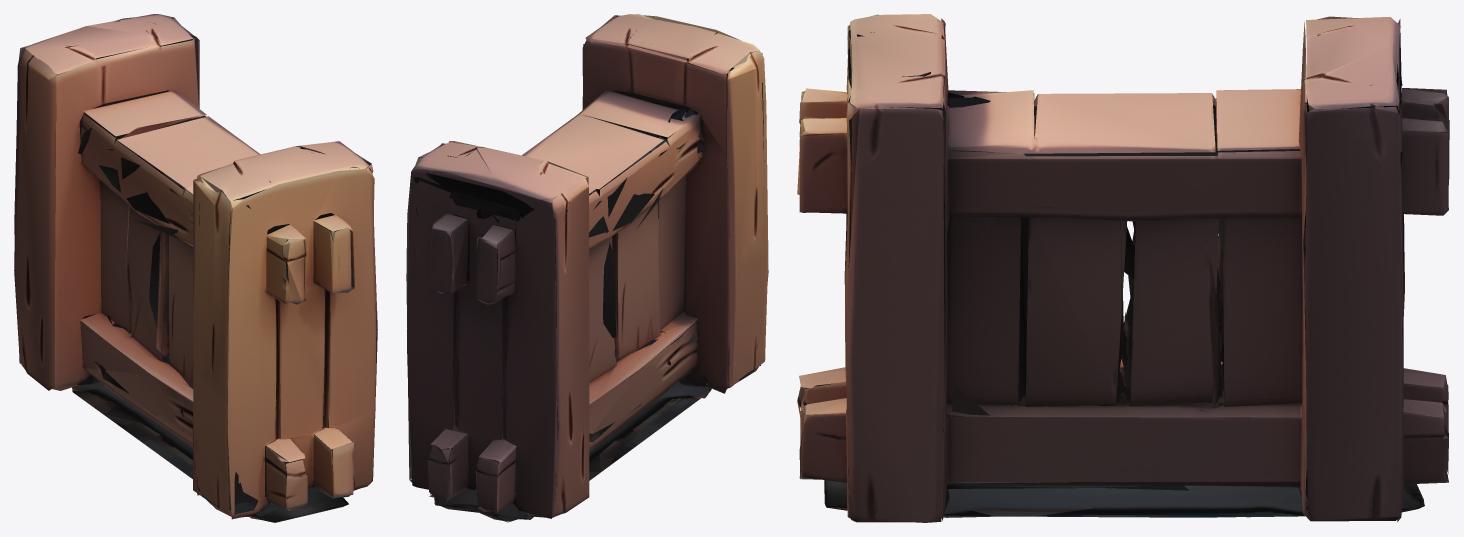
The model's file is wall_segment_perf.fbx.
3 renders of one model, left to right at view 1: azimuth 30°, elevation 25°; view 2: azimuth 150°, elevation 25°; view 3: azimuth 270°, elevation 25°, orthographic. The views are drawn at different scales.
Visible parts, largest first — view 1: wall_segment; view 2: wall_segment; view 3: wall_segment.
Boxes of the visible parts, bbox=[...] form: wall_segment: bbox=[14, 14, 377, 522]; wall_segment: bbox=[406, 14, 768, 522]; wall_segment: bbox=[797, 14, 1449, 522].
Size of the model in its own units: 0.7049 by 1.49 by 2.
Materials: 1 (1 with a texture image).
